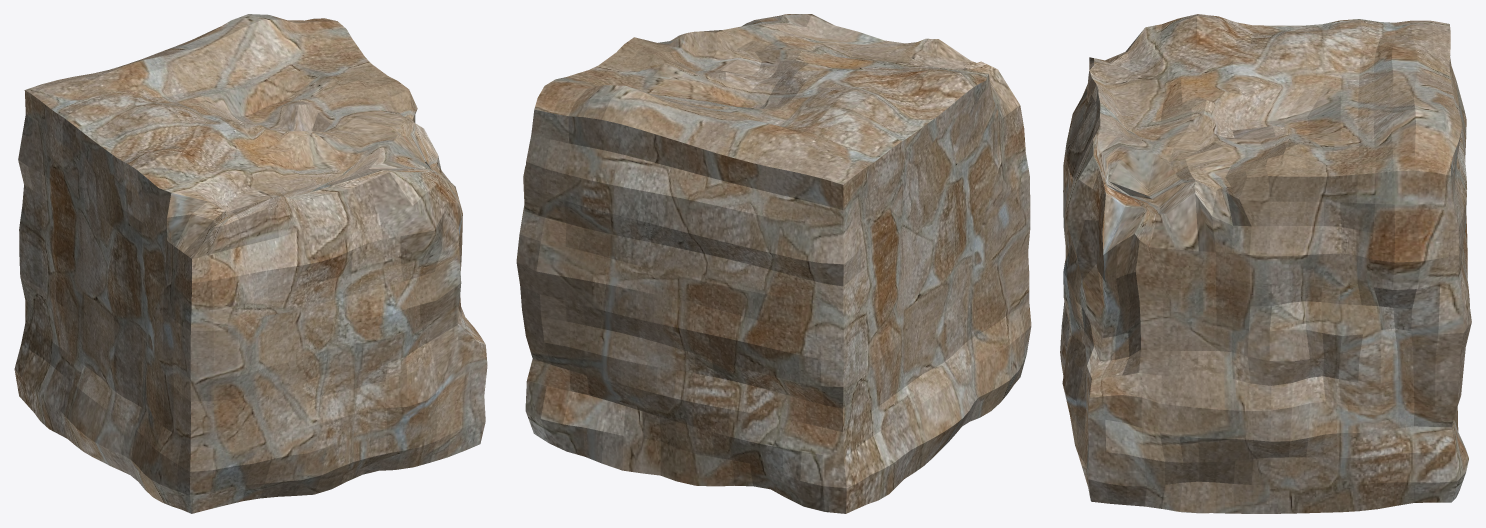
File: pedras13.fbx
3 renders of one model, left to right at view 1: azimuth 30°, elevation 25°; view 2: azimuth 150°, elevation 25°; view 3: azimuth 270°, elevation 25°, orthographic. The views are drawn at different scales.
Visible parts, largest first — view 1: Cube; view 2: Cube; view 3: Cube.
Boxes of the visible parts, x1=… form: Cube: x1=14, y1=14, x2=487, y2=513; Cube: x1=516, y1=14, x2=1031, y2=513; Cube: x1=1060, y1=14, x2=1471, y2=513.
Bounding box in the file's own units: 231 × 236 × 231.
Materials: 1 (1 with a texture image).
